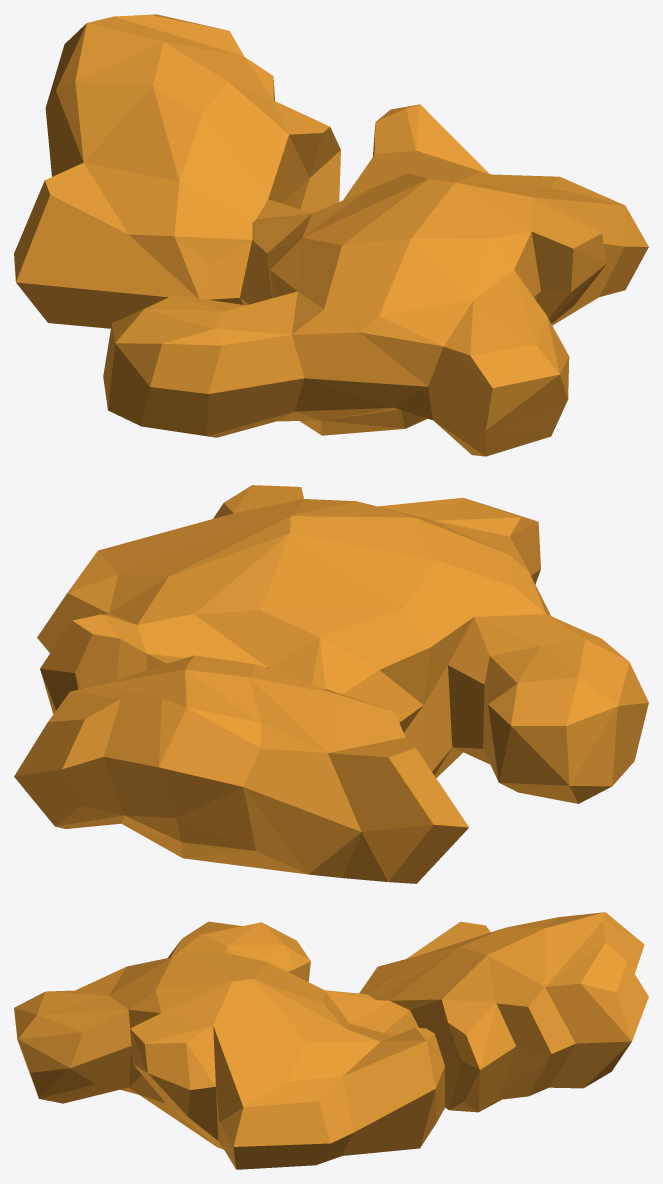
The model's file is jengibre-old.fbx.
3 views of the same model, one above another, from view 1: azimuth 30°, elevation 25°; view 2: azimuth 150°, elevation 25°; view 3: azimuth 270°, elevation 25° (orthographic). The views are drawn at different scales.
Visible parts, largest first — view 1: Cube; view 2: Cube; view 3: Cube.
Boxes of the visible parts, <box> form: Cube: <box>14,14,648,456</box>; Cube: <box>14,485,648,883</box>; Cube: <box>14,912,648,1169</box>.
Bounding box in the file's own units: 271 × 124 × 359.
